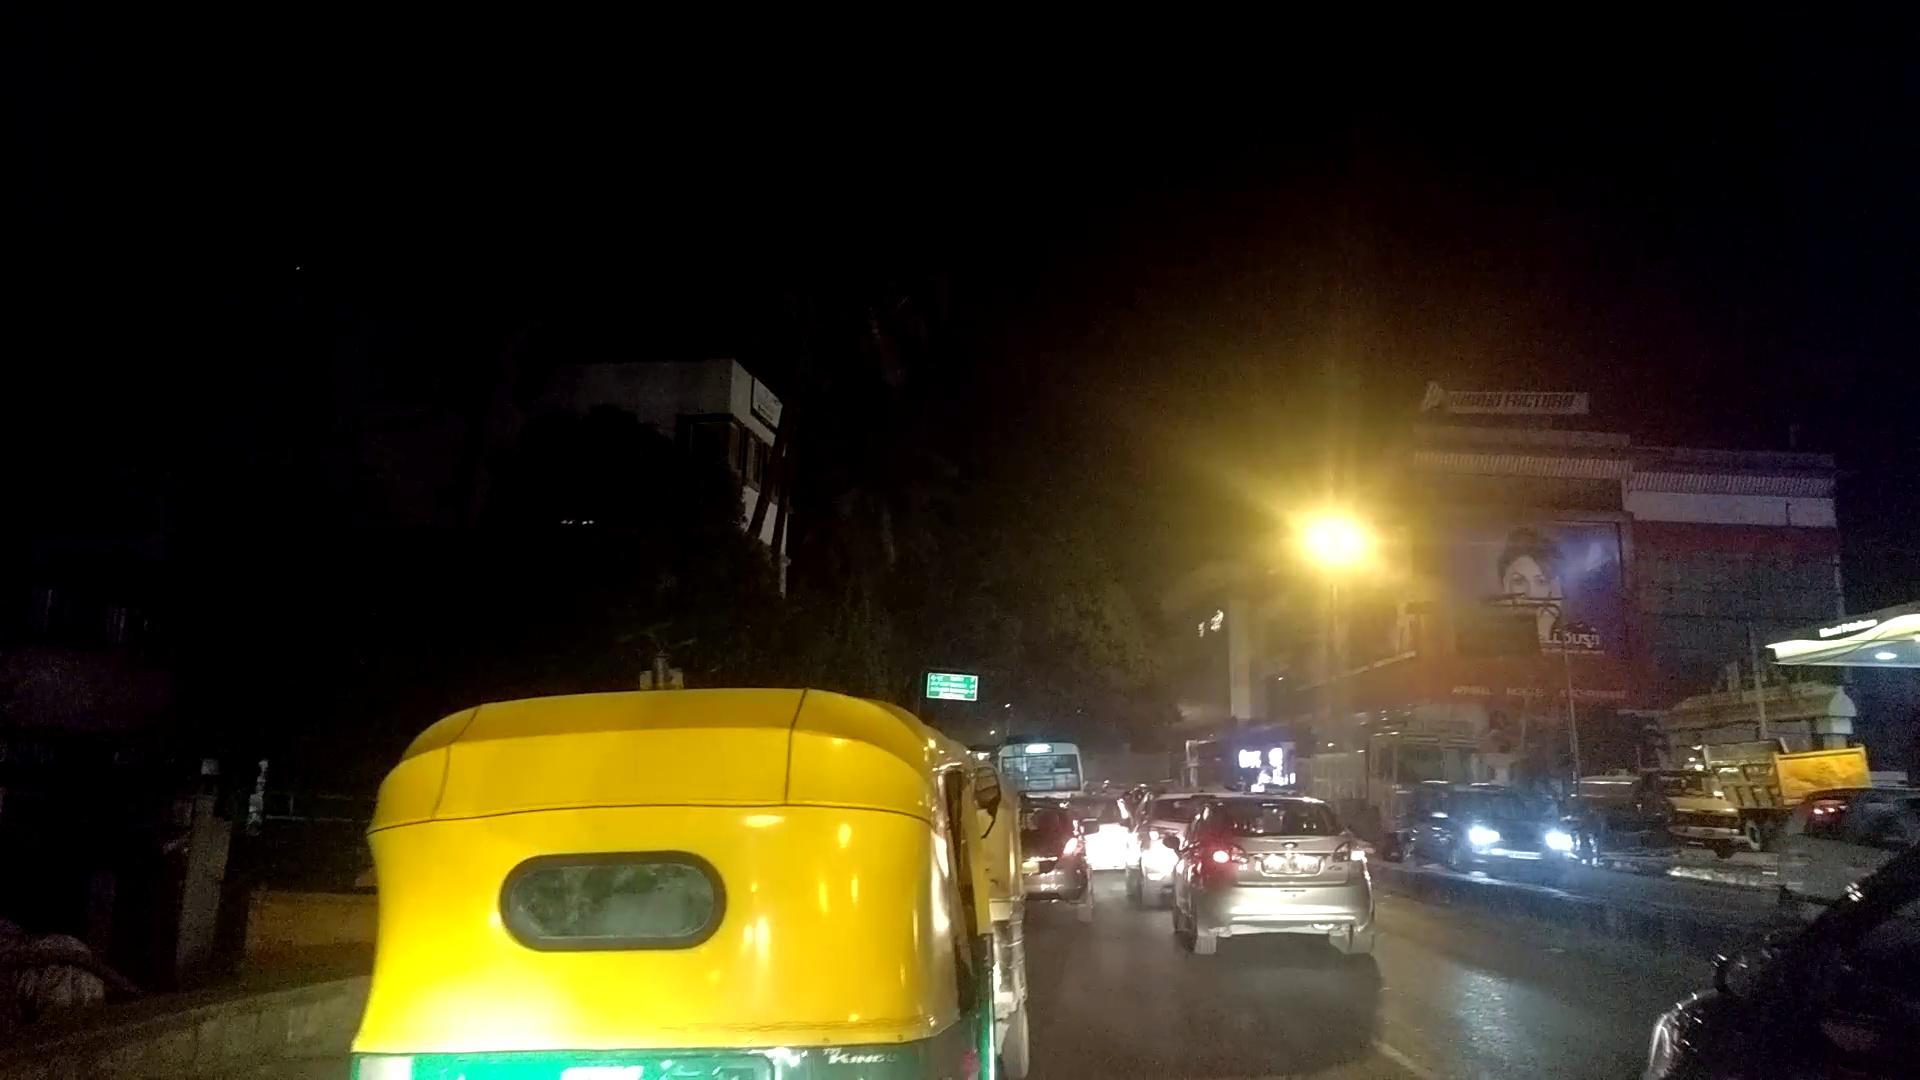on: (1160, 342, 1535, 811)
